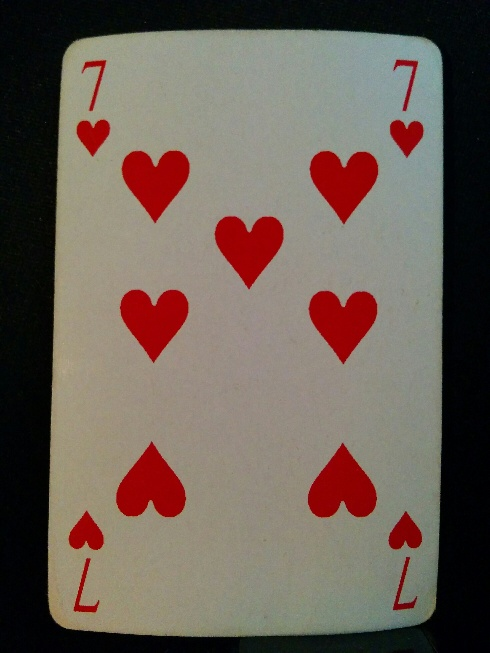H7: (63, 506, 109, 618), (385, 50, 430, 161), (74, 52, 114, 162), (385, 504, 422, 615)
